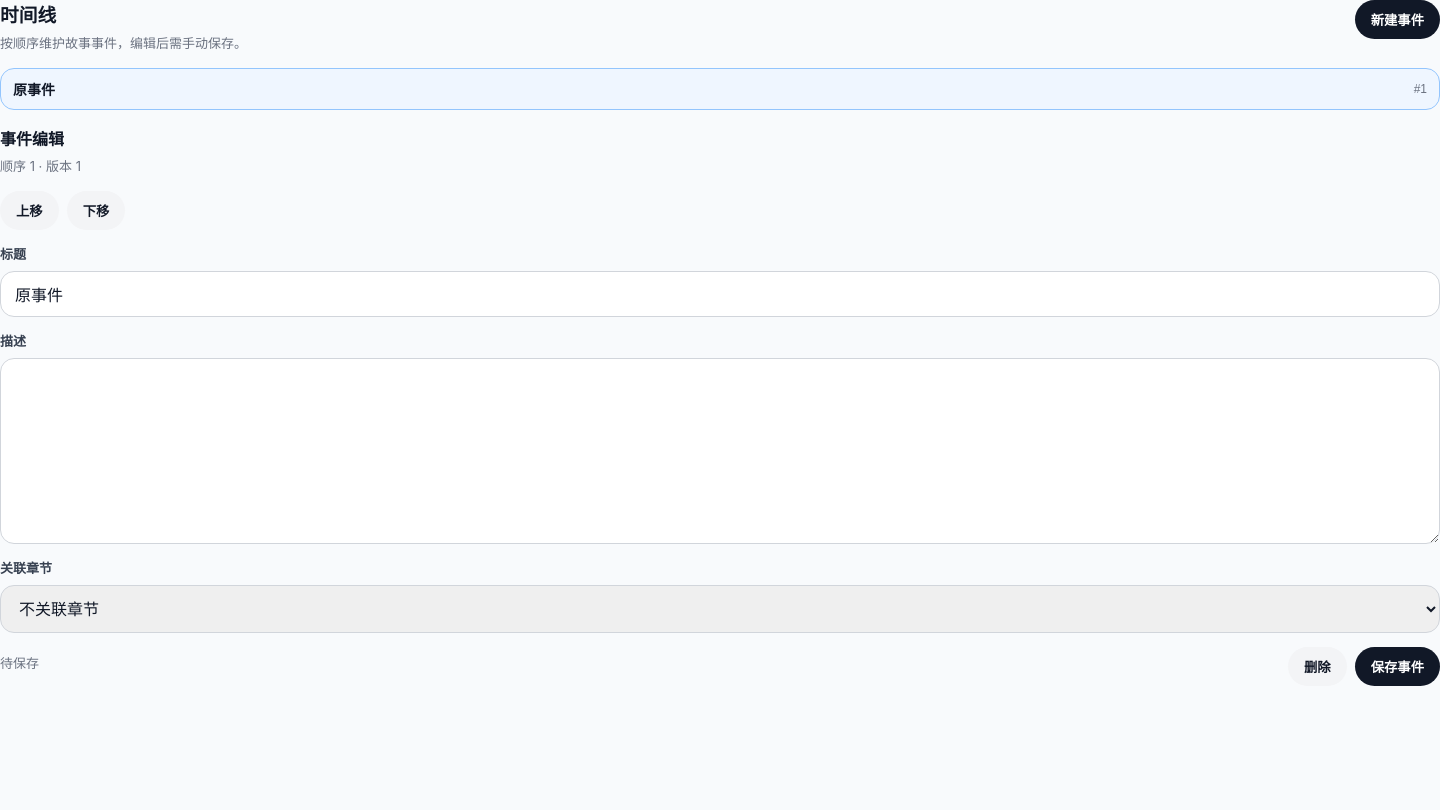
TimelinePanel › keeps local draft and opens conflict modal after 409
The image size is (1440, 810).
Replace the text in the field with test id "timeline-title" with "冲突事件" at (720, 294), box [0,271,1439,317]
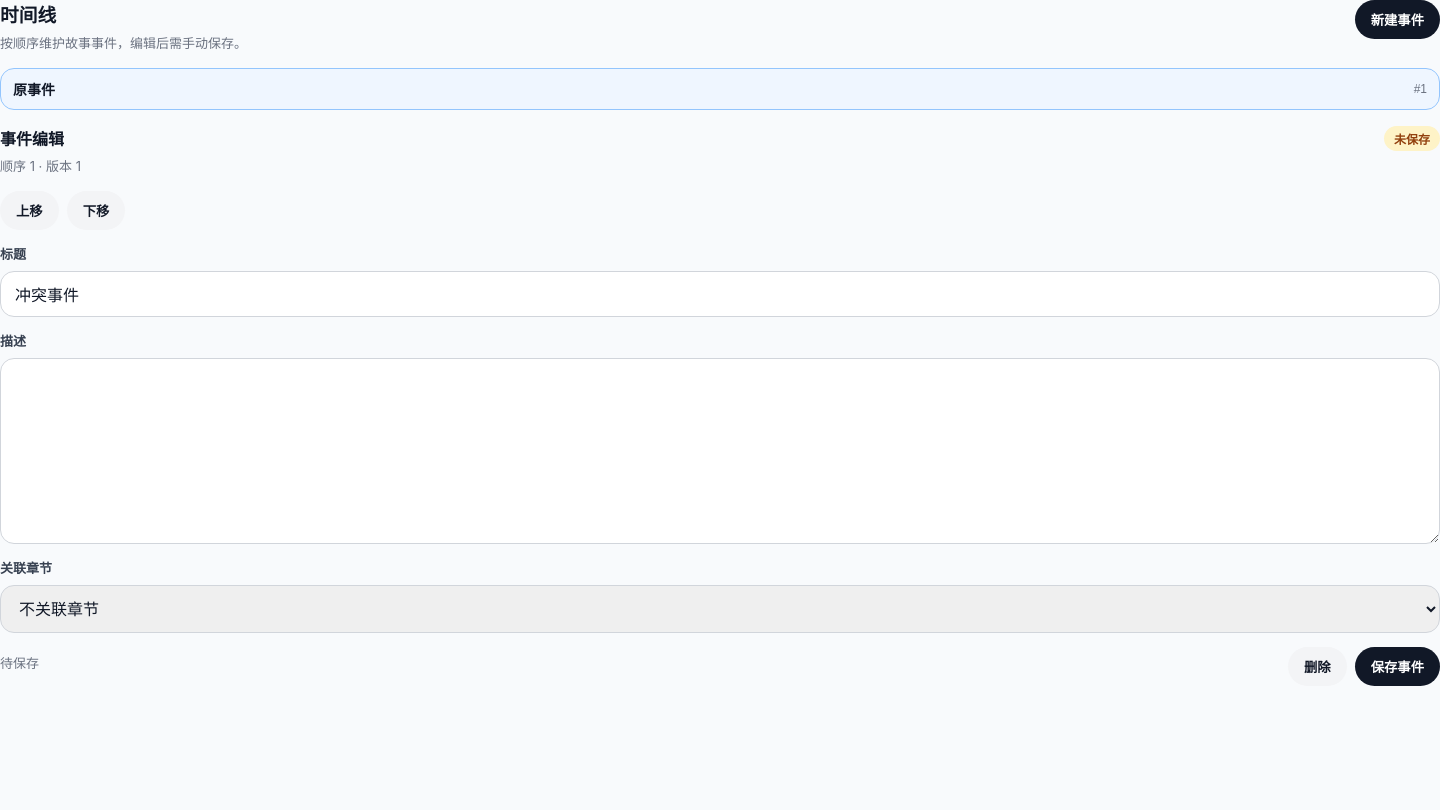
Click the button with class "save-button".
click(1397, 666)  # box [1355,647,1439,686]
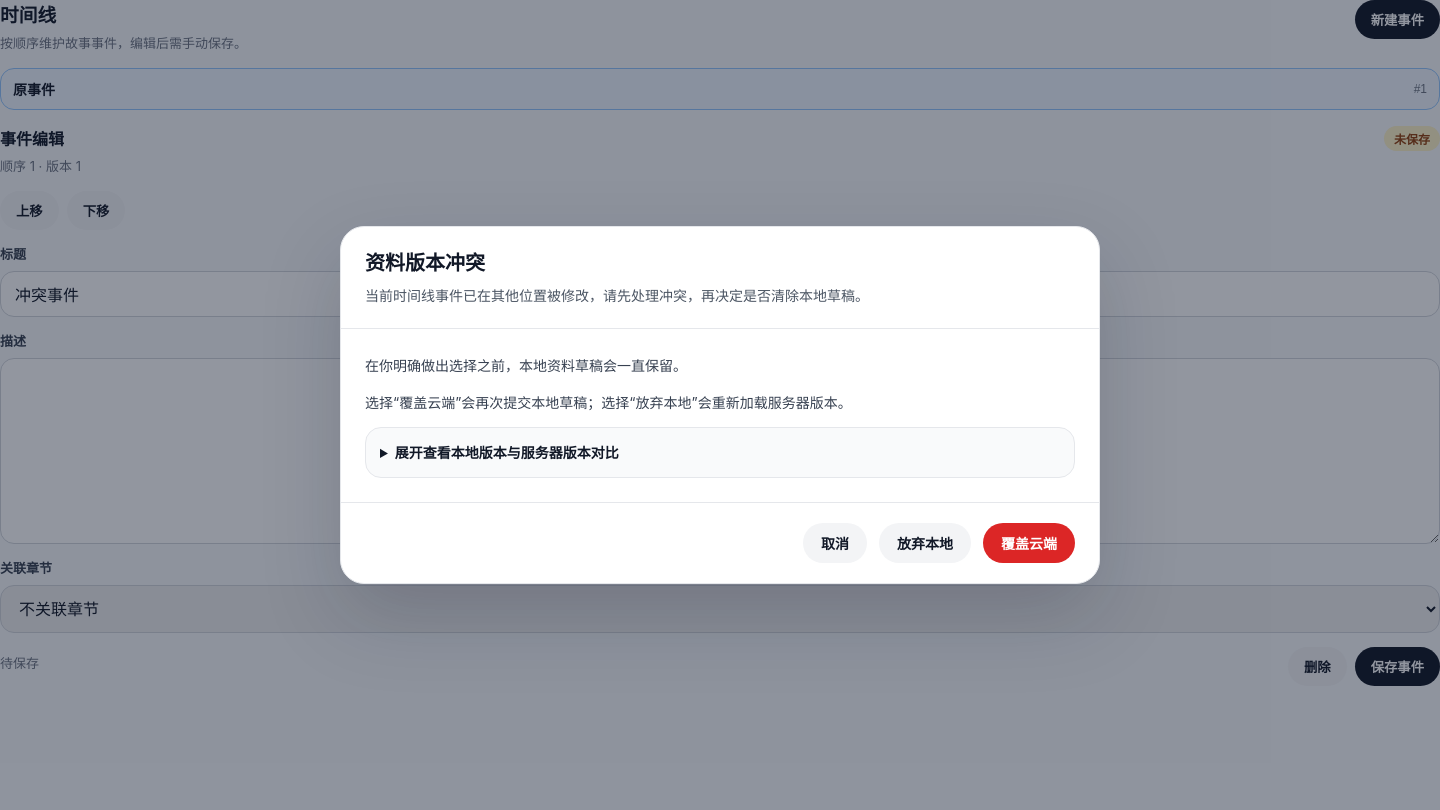
Expected: the element that starts with "资料版本冲突" is shown
Expected: the text "资料版本冲突" is shown, [365,251,485,275]
